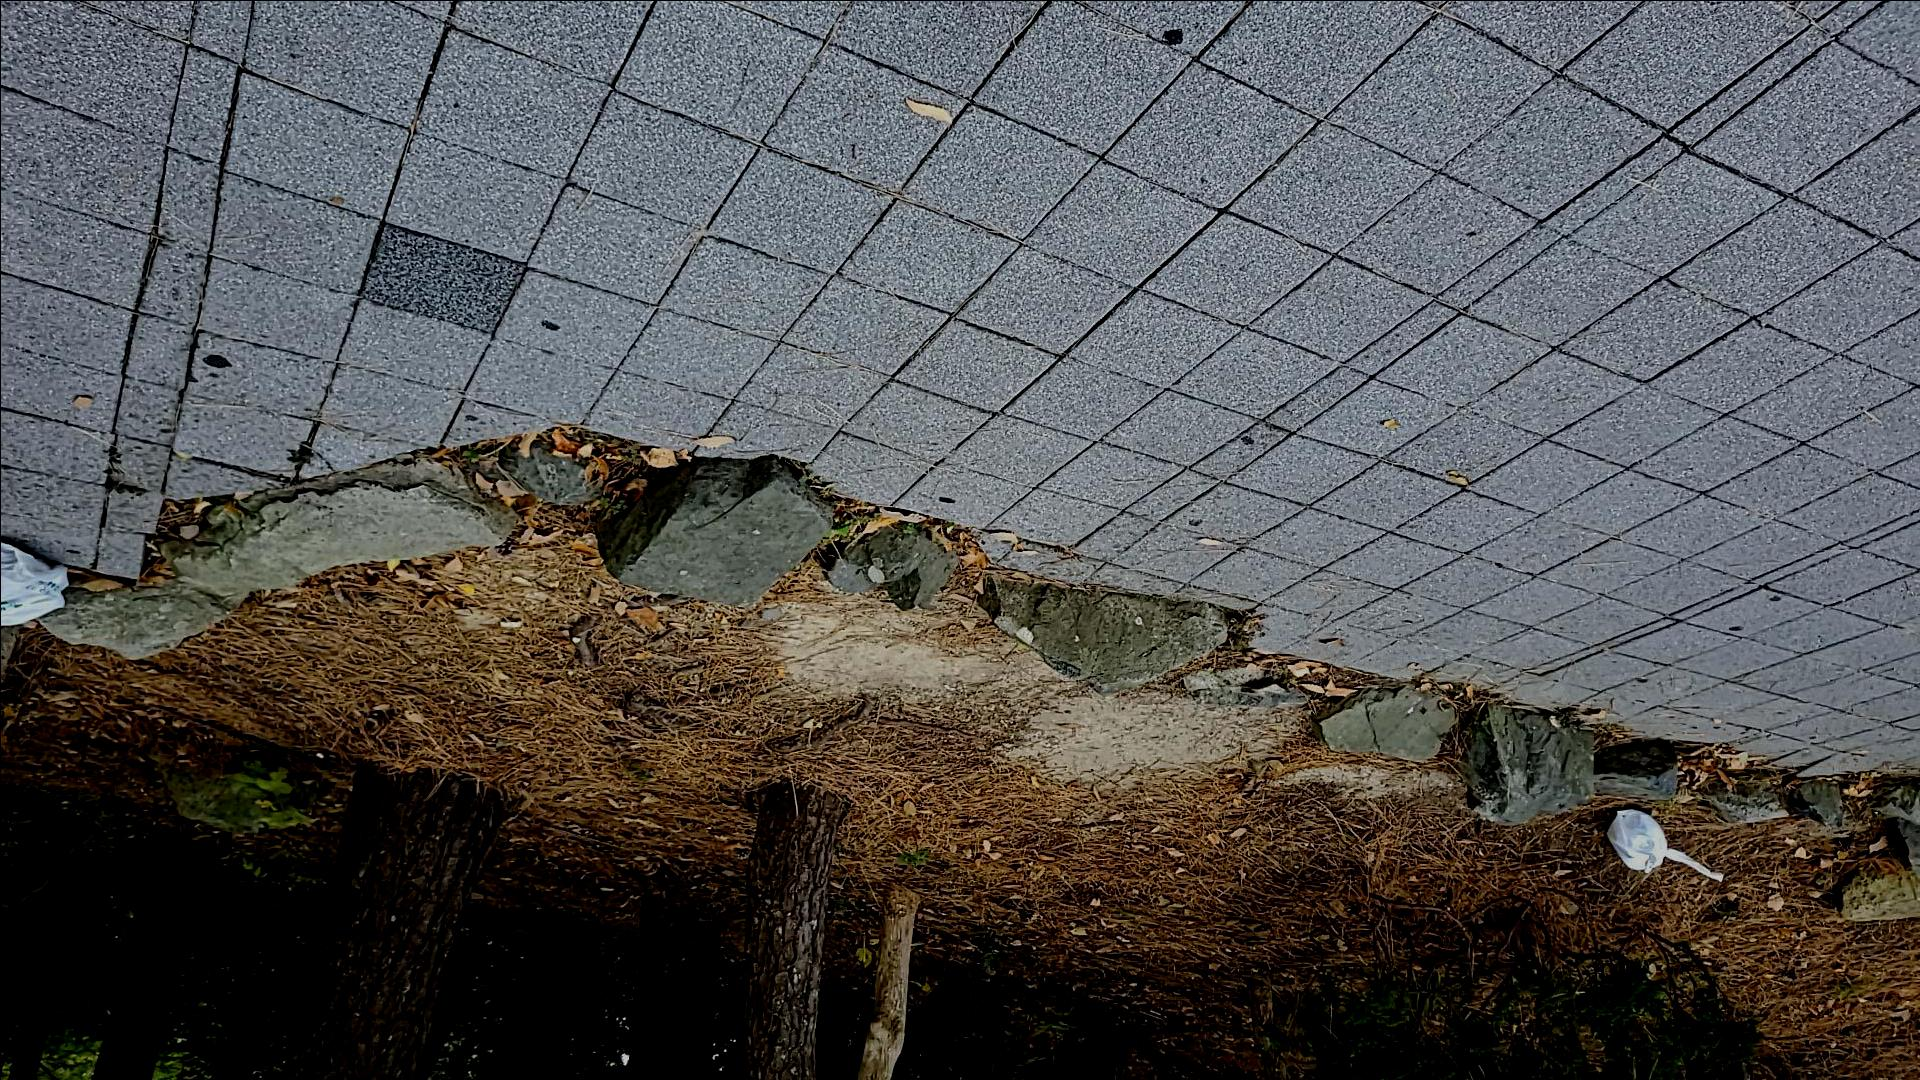white_bag: (1604, 799, 1679, 872)
